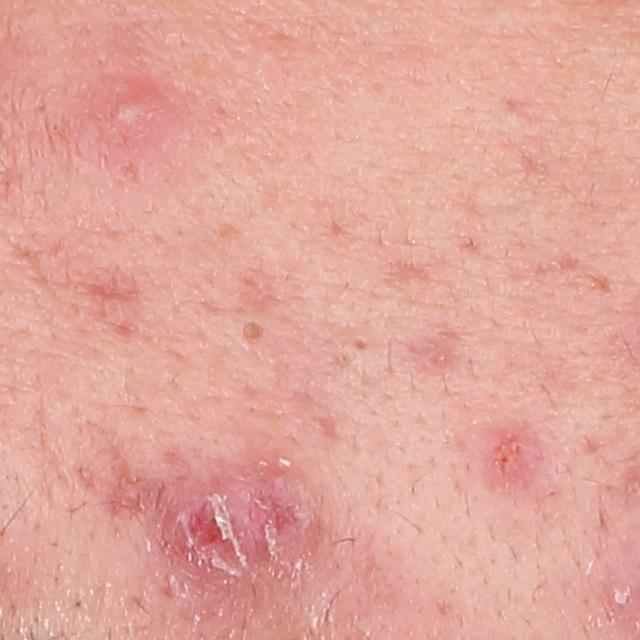comedo: (234, 316, 272, 343), (350, 334, 369, 353)
papule: (175, 470, 332, 598), (472, 427, 540, 487)
pustule: (88, 74, 180, 150), (603, 583, 638, 611)
